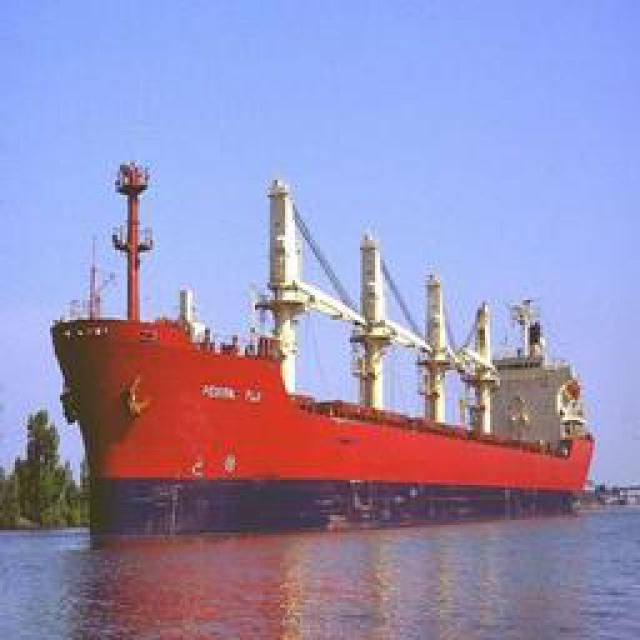Ship: (64, 195, 597, 518)
